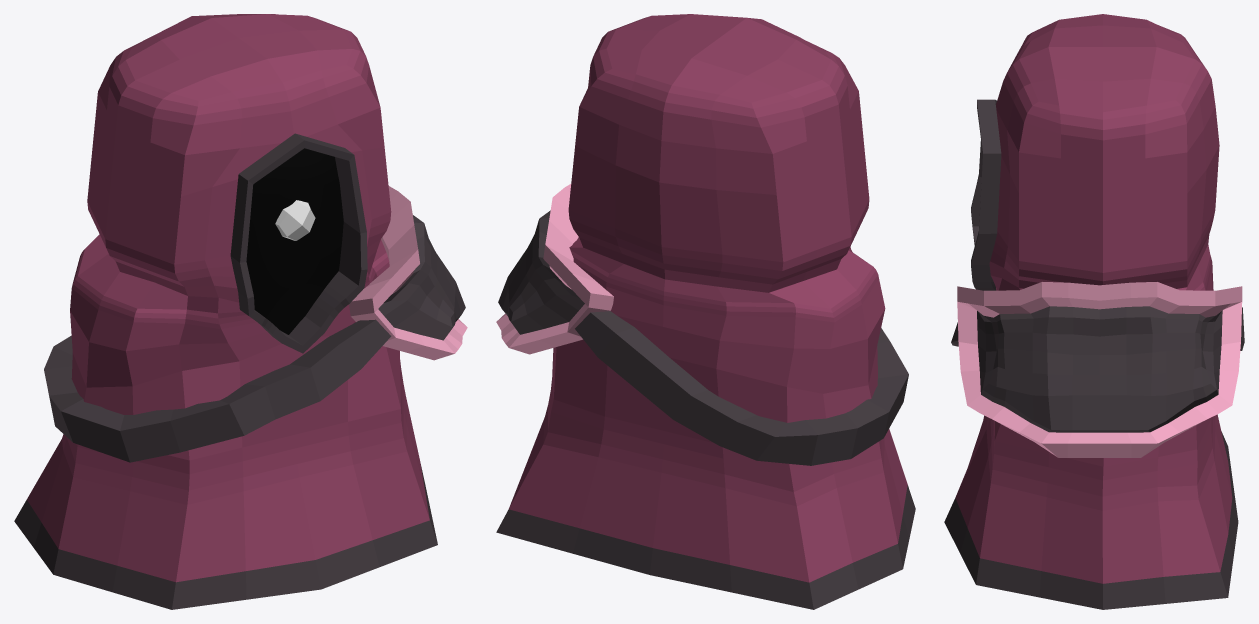
Rendered from CharcterModel.fbx.
The picture shows the model from 3 angles, left to right: view 1: azimuth 30°, elevation 25°; view 2: azimuth 150°, elevation 25°; view 3: azimuth 270°, elevation 25°; orthographic projection. The views are drawn at different scales.
Visible parts, largest first — view 1: Cube.003; view 2: Cube.003; view 3: Cube.003.
Part boxes in pixels (bbox=[...]): Cube.003: bbox=[14, 14, 467, 609]; Cube.003: bbox=[496, 14, 915, 609]; Cube.003: bbox=[944, 14, 1244, 609].
Bounding box in the file's own units: 275 × 333 × 191.
